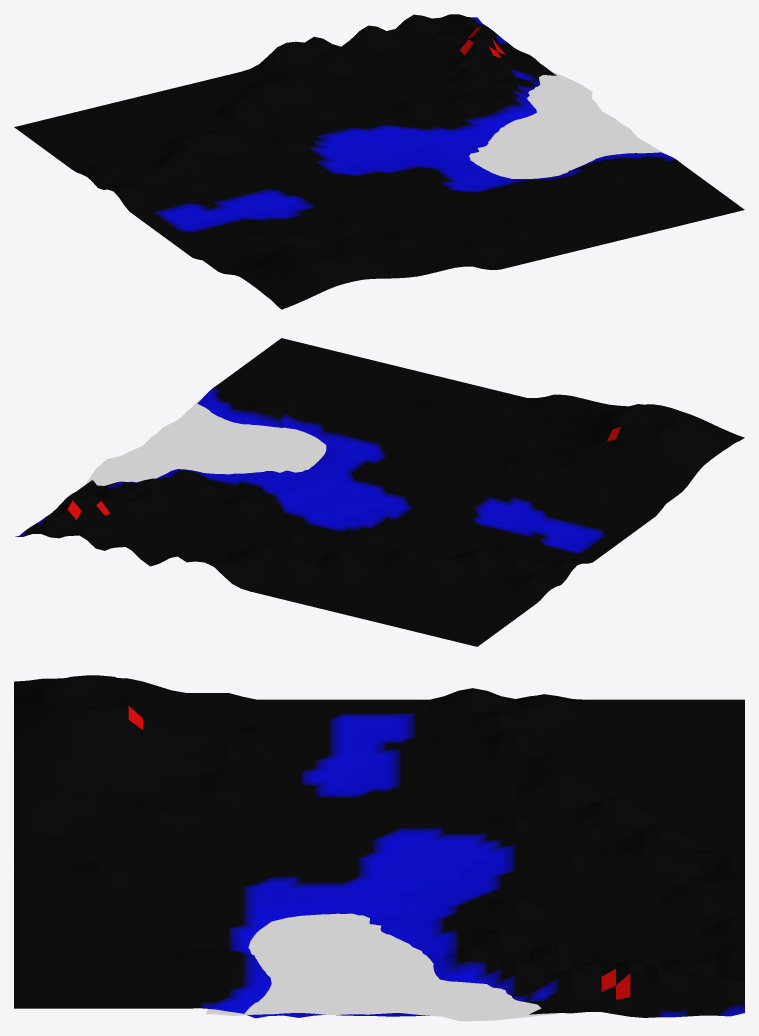
The model's file is world_landscape_400m.glb.
The picture shows the model from 3 angles, top to bottom: view 1: azimuth 30°, elevation 25°; view 2: azimuth 150°, elevation 25°; view 3: azimuth 270°, elevation 25°; orthographic projection. The views are drawn at different scales.
Visible parts, largest first — view 1: geo, Ocean; view 2: geo, Ocean; view 3: geo, Ocean.
Part boxes in pixels (left/top/right/bottom): geo: left=14, top=14, right=744, bottom=309; Ocean: left=469, top=70, right=666, bottom=178; geo: left=15, top=338, right=744, bottom=646; Ocean: left=85, top=399, right=326, bottom=485; geo: left=14, top=675, right=744, bottom=1018; Ocean: left=206, top=913, right=559, bottom=1021.
Bounding box in the file's own units: 409 × 43.16 × 400.
